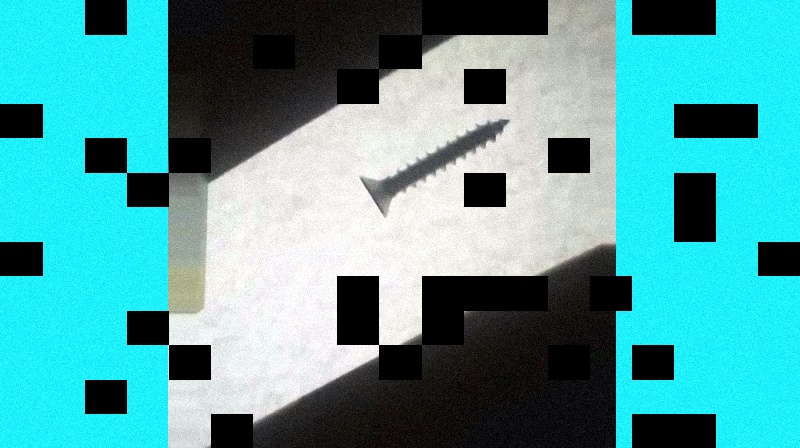S001: (355, 111, 510, 221)
